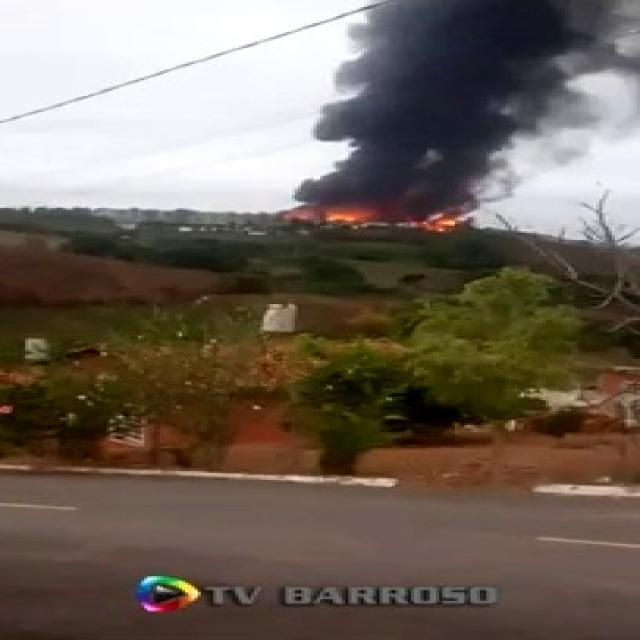Fire: (308, 206, 362, 232)
Smoke: (292, 0, 640, 210)
